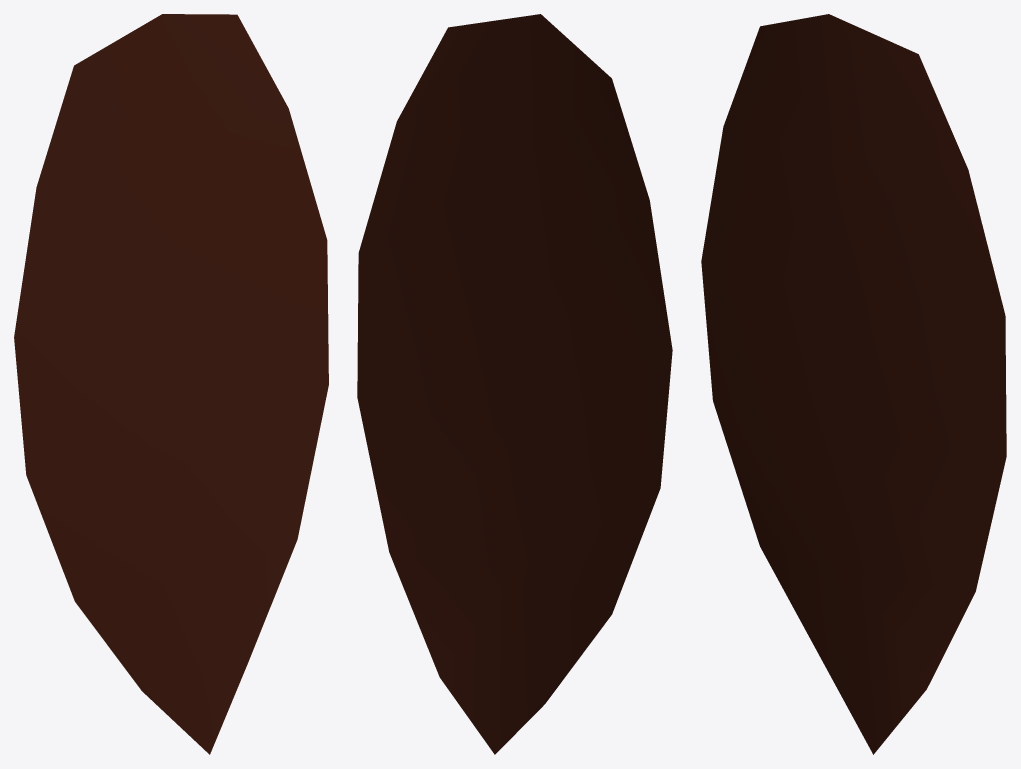
Rendered from rooster_feather_flight_tertiary_013.obj.
3 views of the same model, side by side, from view 1: azimuth 30°, elevation 25°; view 2: azimuth 150°, elevation 25°; view 3: azimuth 330°, elevation 25° (orthographic). The views are drawn at different scales.
Parts seen in each view (by area): view 1: feather_flight_tertiary_013; view 2: feather_flight_tertiary_013; view 3: feather_flight_tertiary_013.
Boxes of the visible parts, <box> form: feather_flight_tertiary_013: <box>14,14,328,754</box>; feather_flight_tertiary_013: <box>357,14,672,754</box>; feather_flight_tertiary_013: <box>701,14,1006,754</box>.
Bounding box in the file's own units: 0.0104 × 0.0237 × 0.000548.
